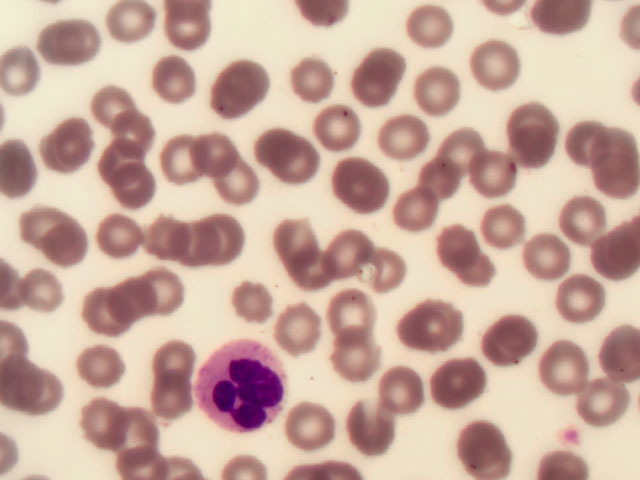Platelets: (557, 417, 584, 449)
RBC: (40, 120, 92, 170), (88, 78, 140, 128), (48, 15, 100, 65), (161, 10, 213, 60), (148, 57, 200, 107), (199, 73, 251, 123), (225, 57, 277, 107), (157, 135, 209, 185), (116, 111, 168, 161), (97, 136, 149, 186), (106, 156, 158, 206), (92, 213, 144, 263), (42, 222, 94, 272), (18, 205, 70, 255), (16, 269, 68, 319), (70, 282, 122, 332), (107, 276, 159, 326), (136, 269, 188, 319), (137, 214, 189, 264), (165, 217, 217, 267), (199, 214, 251, 264), (212, 162, 264, 212), (198, 128, 250, 178), (248, 124, 300, 174), (272, 135, 324, 185), (310, 103, 362, 153), (291, 54, 343, 104), (356, 64, 408, 114), (365, 39, 417, 89), (406, 64, 458, 114), (472, 41, 524, 91), (409, 6, 461, 56), (437, 122, 489, 172), (419, 150, 471, 200), (390, 185, 442, 235), (337, 162, 389, 212), (377, 110, 429, 160), (426, 222, 478, 272), (449, 240, 501, 290), (475, 202, 527, 252), (469, 147, 521, 197), (499, 121, 551, 171), (512, 95, 564, 145), (562, 116, 614, 166), (588, 153, 640, 203), (557, 195, 609, 245), (515, 230, 567, 280), (558, 274, 610, 324), (486, 316, 538, 366), (544, 340, 596, 390), (579, 378, 631, 428), (396, 302, 448, 352), (356, 243, 408, 293), (325, 228, 377, 278), (290, 245, 342, 295), (271, 218, 323, 268), (230, 276, 282, 326), (275, 307, 327, 357), (325, 288, 377, 338), (335, 336, 387, 386), (378, 370, 430, 420), (429, 357, 481, 407), (457, 423, 509, 473), (347, 407, 399, 457), (284, 401, 336, 451), (143, 371, 195, 421), (150, 339, 202, 389), (76, 341, 128, 391), (73, 396, 125, 446), (104, 398, 156, 448), (10, 365, 62, 415), (1, 48, 52, 98), (108, 1, 160, 50)
WBC: (196, 340, 285, 436)
